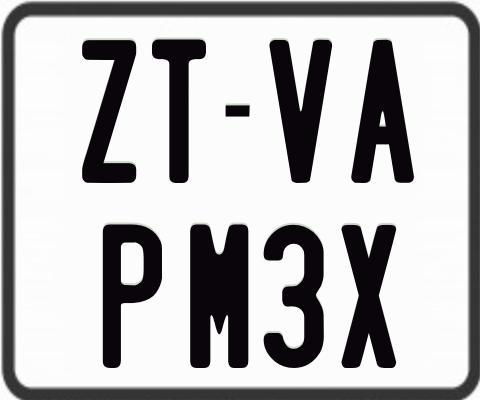3: (263, 225, 328, 372)
A: (351, 37, 420, 184)
M: (187, 221, 247, 367)
P: (100, 224, 165, 369)
T: (149, 36, 208, 183)
V: (269, 39, 332, 188)
X: (340, 223, 399, 368)
Z: (81, 39, 135, 185)
